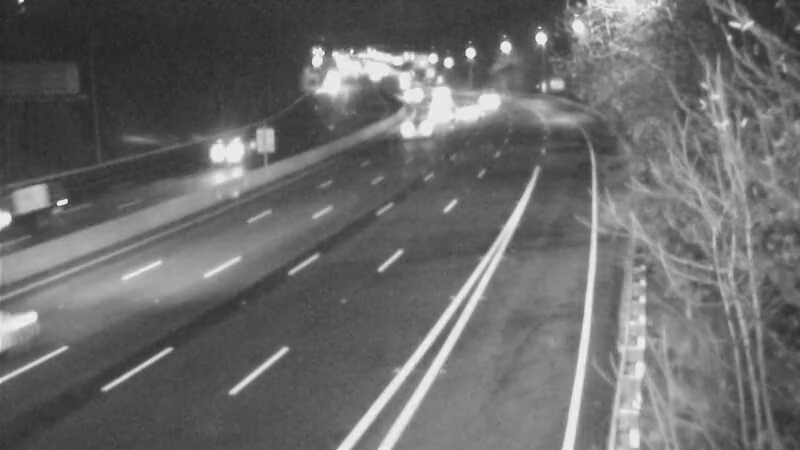vehicle: (1, 168, 73, 248), (385, 73, 435, 123), (459, 70, 509, 120), (413, 78, 463, 128), (441, 90, 491, 140), (411, 90, 461, 140), (385, 105, 435, 155), (201, 121, 251, 171)
